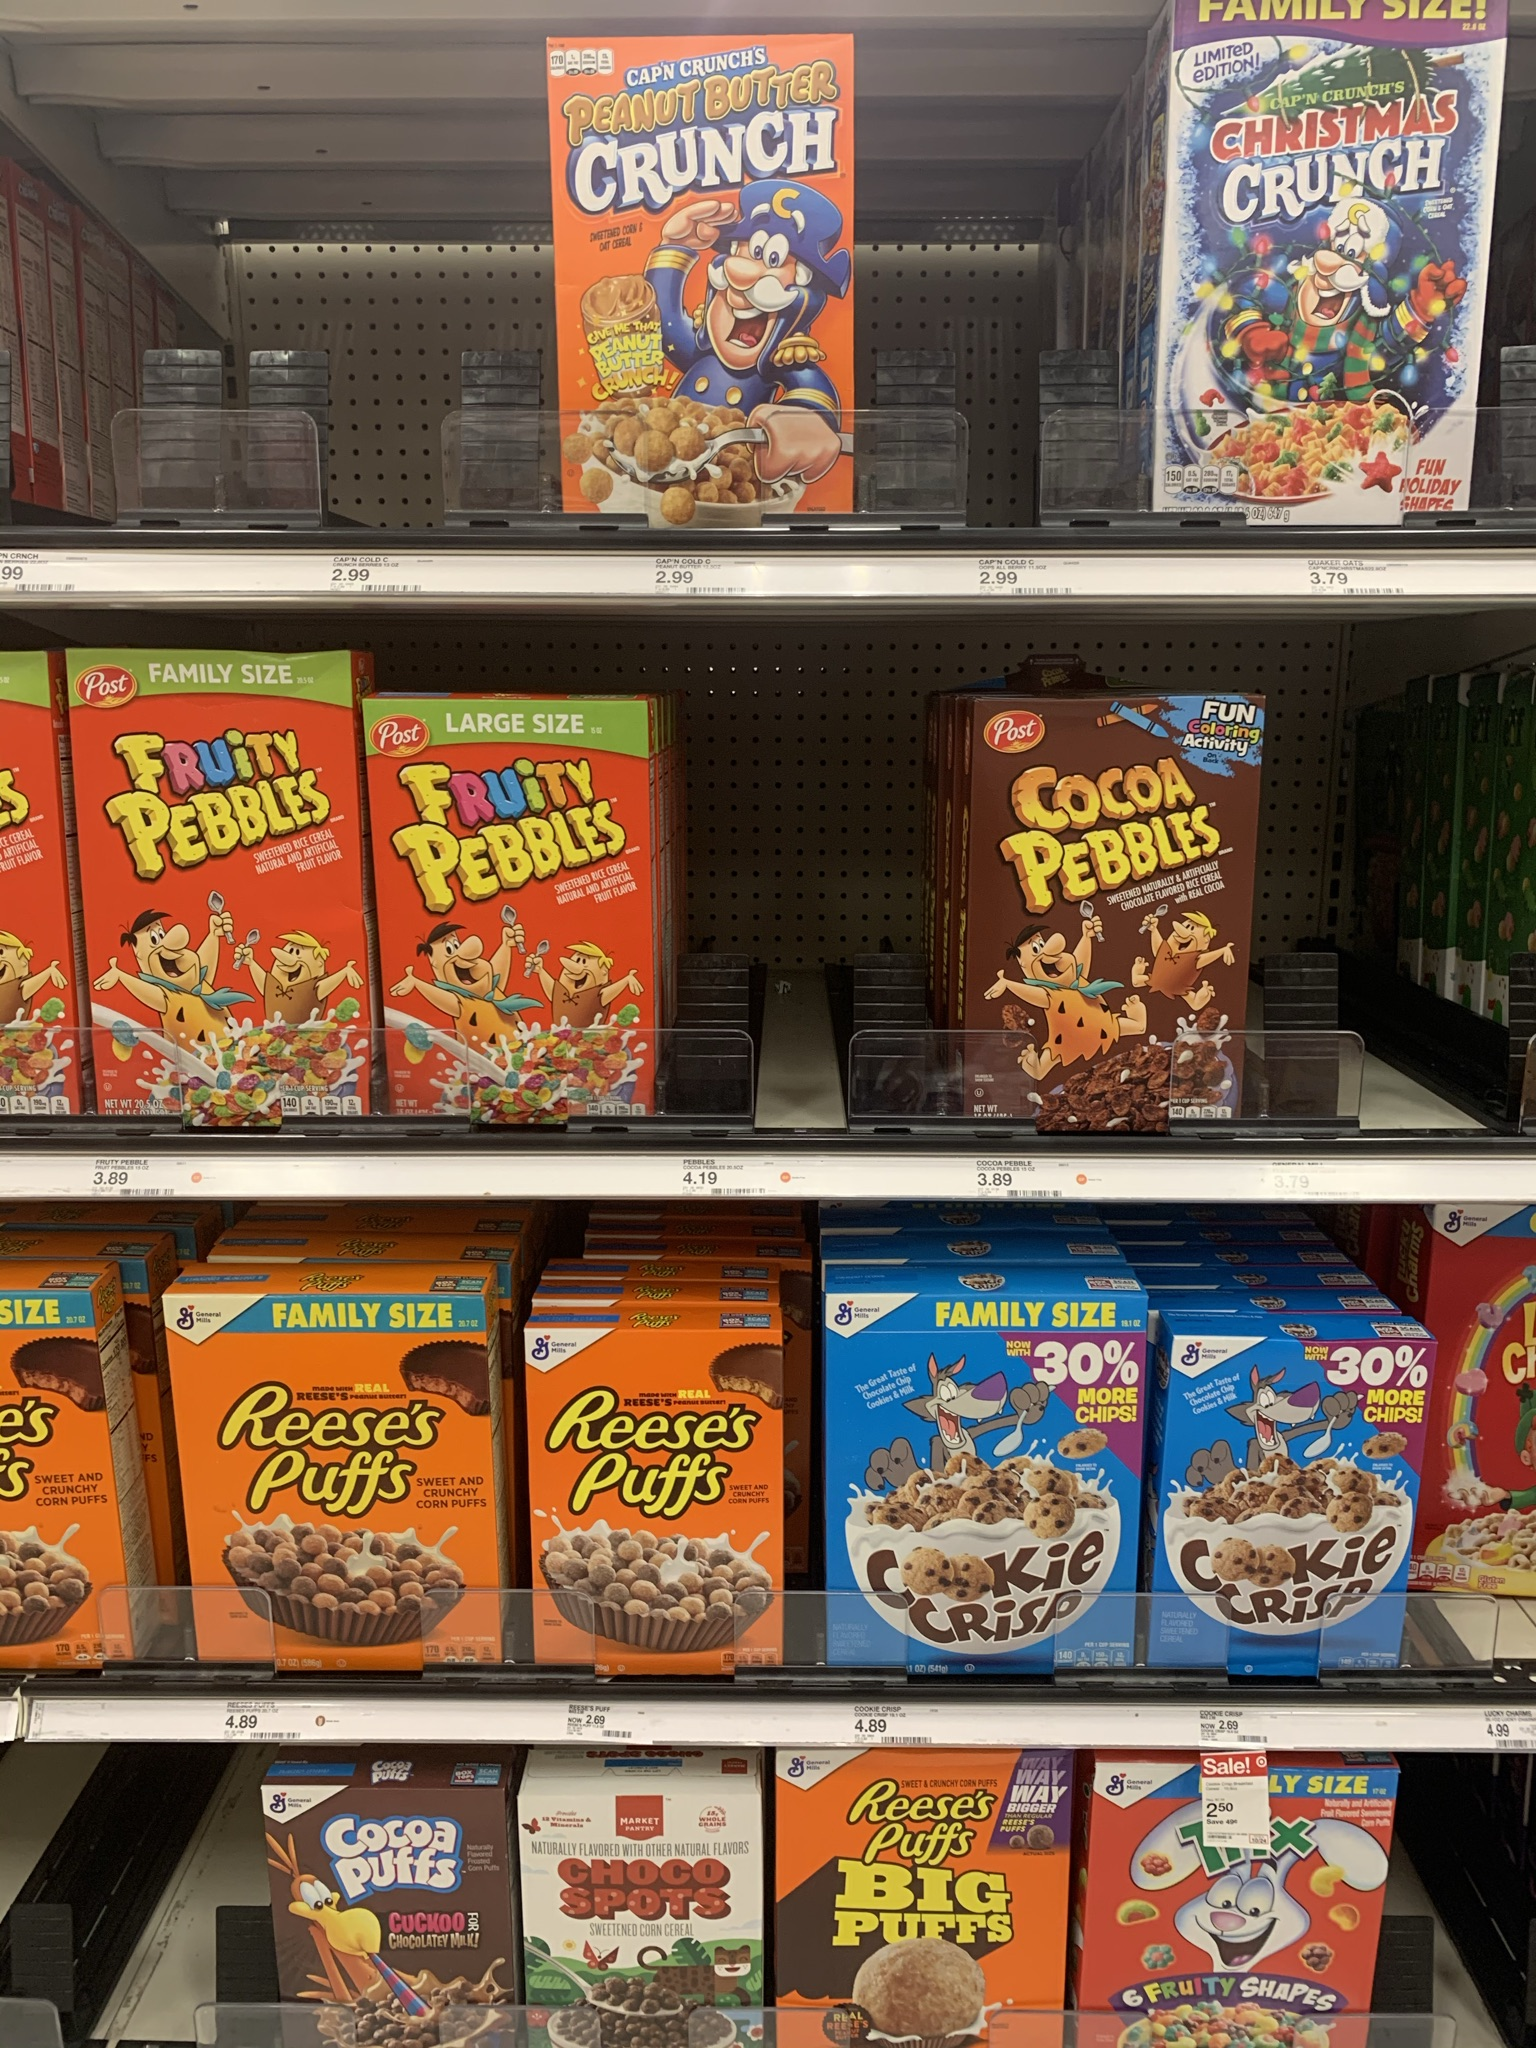cereal: (1155, 15, 1489, 547), (545, 42, 850, 531), (74, 639, 345, 1121), (954, 714, 1262, 1134), (169, 1279, 481, 1664), (397, 693, 663, 1121), (829, 1295, 1120, 1684), (518, 1313, 776, 1651), (762, 1771, 1075, 2048), (1083, 1779, 1404, 2048), (1163, 1340, 1407, 1687), (278, 1779, 510, 2048)
